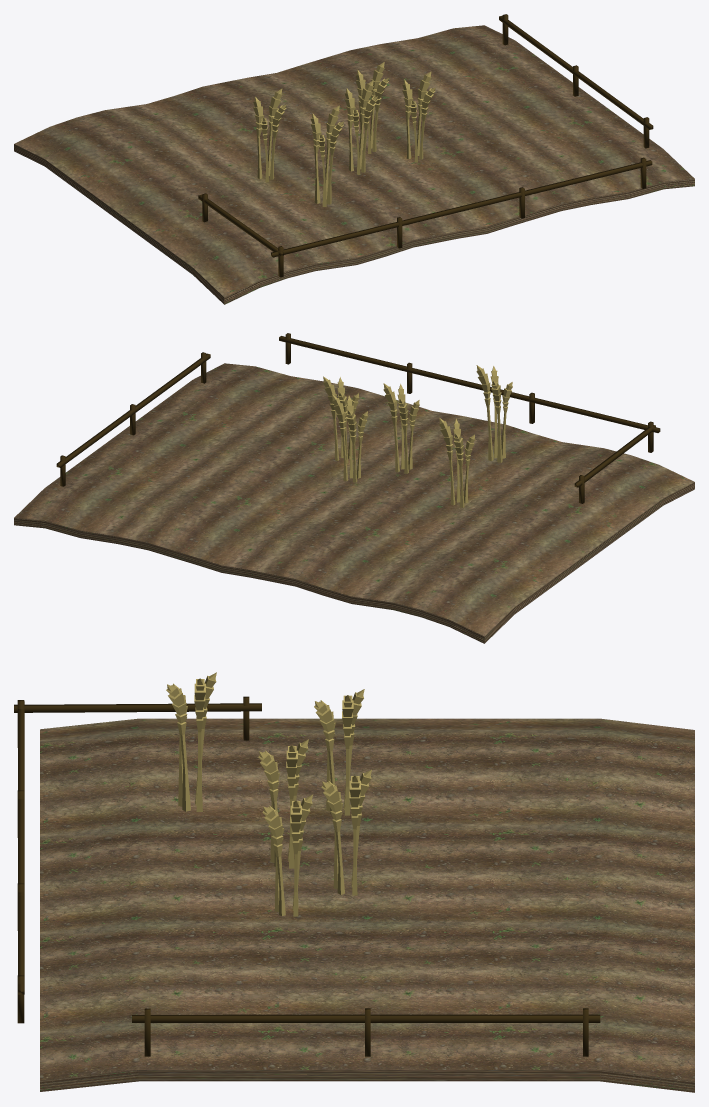
The model's file is farm.glb.
The picture shows the model from 3 angles, top to bottom: view 1: azimuth 30°, elevation 25°; view 2: azimuth 150°, elevation 25°; view 3: azimuth 270°, elevation 25°; orthographic projection. The views are drawn at different scales.
Parts seen in each view (by area): view 1: Cube.021, Wheat.004, Wheat, Wheat.002, Wheat.001, Wheat.003, Cube.009, Cube.010, Cube.012, Cube.014, Cube.018, Cube.017; view 2: Cube.021, Wheat.004, Wheat, Wheat.002, Wheat.003, Wheat.001, Cube.009, Cube.012, Cube.010, Cube.014, Cube.018, Cube.017; view 3: Cube.021, Wheat.004, Wheat.003, Wheat.001, Wheat.002, Cube.017, Cube.018, Cube.014, Wheat, Cube.009.
Boxes of the visible parts, x1,y1,x2,y2 form: Cube.021: (14,25,694,304); Wheat.004: (310,105,343,206); Wheat: (344,80,377,174); Wheat.002: (253,88,286,182); Wheat.001: (402,71,435,162); Wheat.003: (355,62,388,153); Cube.009: (512,160,652,197); Cube.010: (390,190,529,228); Cube.012: (271,220,411,257); Cube.014: (198,194,283,256); Cube.018: (499,15,581,77); Cube.017: (570,67,653,129); Cube.021: (14,363,694,643); Wheat.004: (476,365,512,462); Wheat: (383,383,419,473); Wheat.002: (439,418,475,507); Wheat.003: (332,394,368,482); Wheat.001: (323,376,359,463); Cube.009: (279,336,418,373); Cube.012: (520,396,660,432); Cube.010: (401,366,540,403); Cube.014: (574,425,655,487); Cube.018: (56,406,139,467); Cube.017: (127,353,210,412); Cube.021: (40,718,694,1092); Wheat.004: (166,672,216,811); Wheat.003: (321,769,371,895); Wheat.001: (262,794,312,916); Wheat.002: (314,689,364,815); Cube.017: (132,1014,379,1022); Cube.018: (380,1014,600,1022); Cube.014: (14,703,261,712); Wheat: (258,739,308,868); Cube.009: (18,885,24,994).
Size of the model in its own units: 29.43 by 7.29 by 23.71.
Materials: 20 (1 with a texture image).
